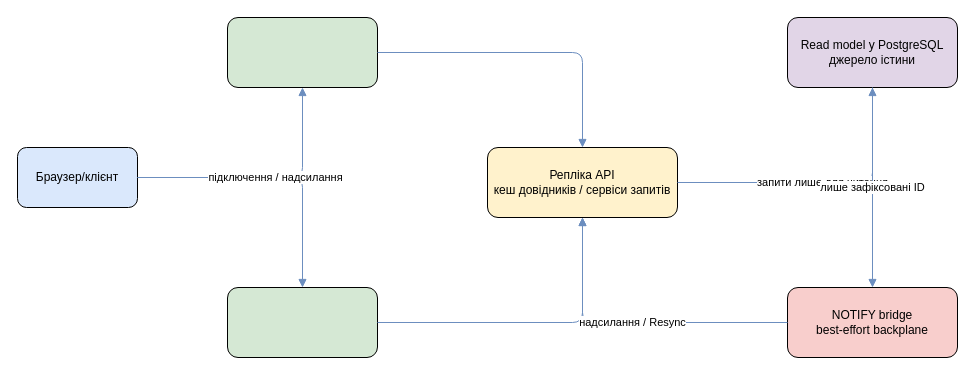
Some shapes in this 975 by 375 pixel diagram are drawn without their labels. The shapes that lost their labels are listed below. From the top down, each one's box as (x1, y1, x2, y2) in pixels, then its label:
(226, 16, 378, 88): REST /api запити read-side
(226, 286, 378, 358): SignalR /hubs/map лише сервер → клієнт
